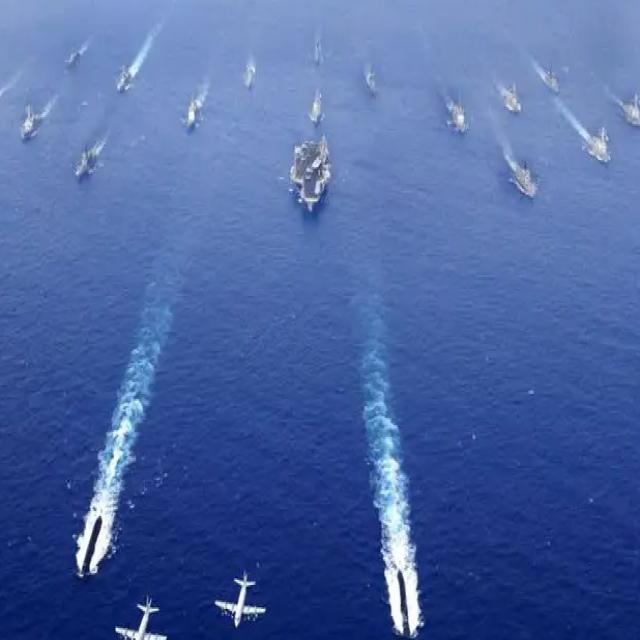navalvessels: (286, 128, 333, 212), (500, 140, 540, 208), (5, 107, 47, 149), (74, 134, 104, 186), (61, 38, 99, 74), (586, 117, 613, 166), (498, 78, 524, 120), (111, 49, 133, 94), (539, 52, 560, 97), (448, 91, 472, 130), (187, 88, 205, 135), (306, 92, 332, 120)
